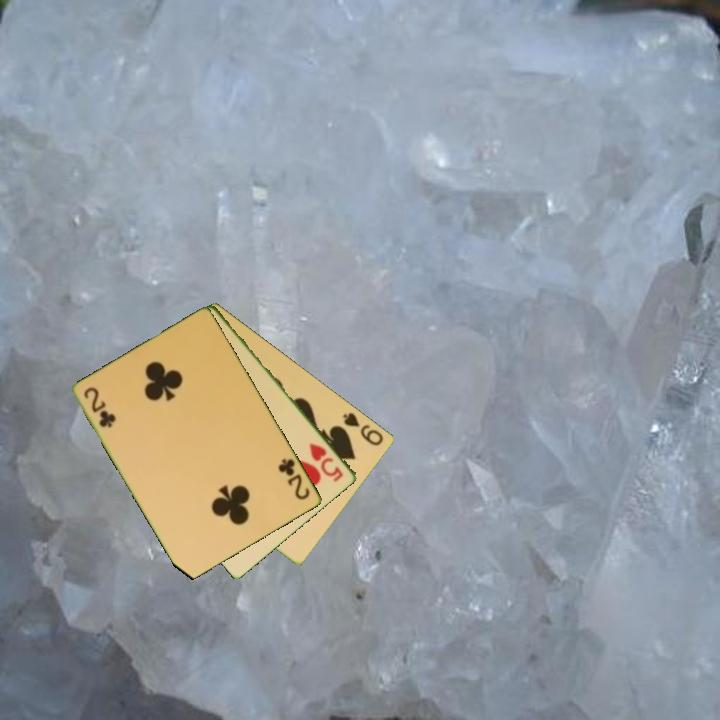2c: (275, 455, 313, 503), (81, 383, 118, 431)
5h: (306, 439, 347, 485)
9s: (340, 409, 387, 449)
